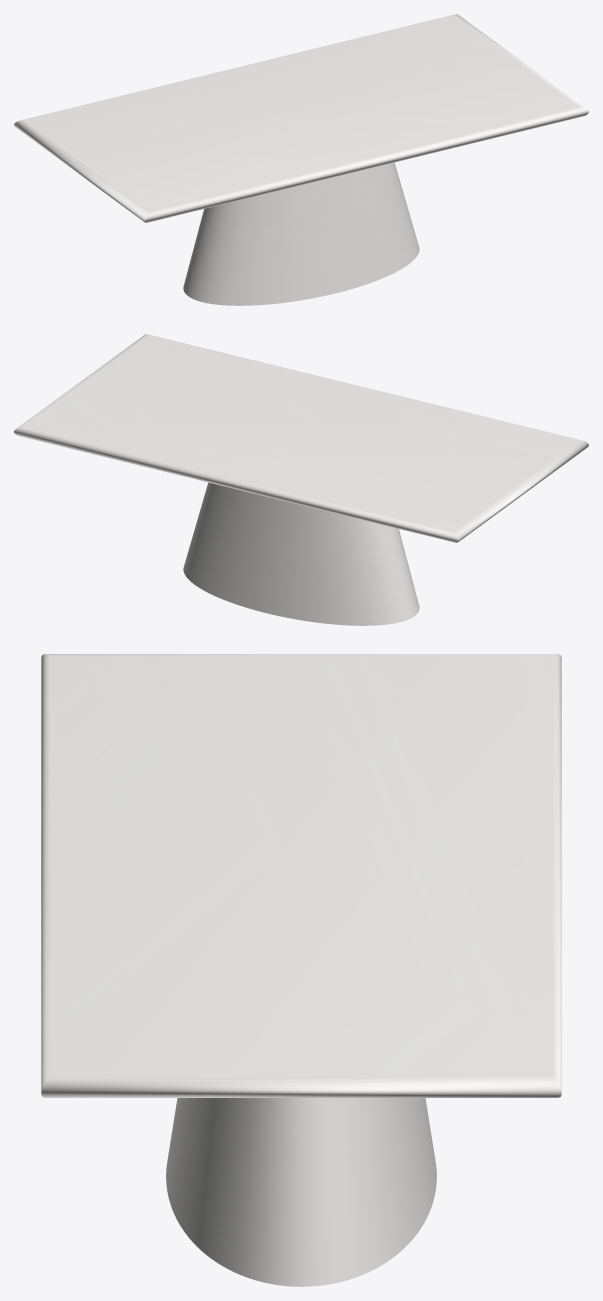
The model's file is purewhite_recta_round_eqone.glb.
3 views of the same model, one above another, from view 1: azimuth 30°, elevation 25°; view 2: azimuth 150°, elevation 25°; view 3: azimuth 270°, elevation 25° (orthographic). The views are drawn at different scales.
Visible parts, largest first — view 1: round_recta, eqone; view 2: round_recta, eqone; view 3: round_recta, eqone.
Part boxes in pixels (x1,y1,x2,y2): round_recta: (14,14,588,222); eqone: (183,162,419,305); round_recta: (14,334,588,542); eqone: (183,482,419,625); round_recta: (41,654,561,1097); eqone: (166,1098,436,1286).
Bounding box in the file's own units: 7.5 × 2.5 × 3.8.
Materials: 1 (1 with a texture image).
